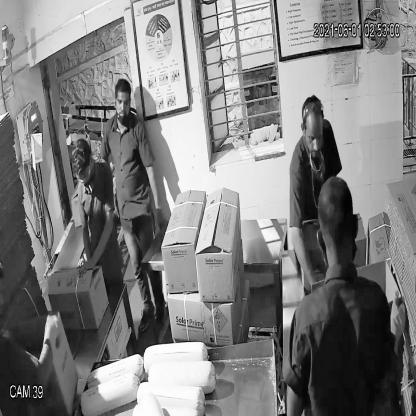goggles: (70, 160, 96, 188)
no_goggles: (298, 121, 327, 147)
